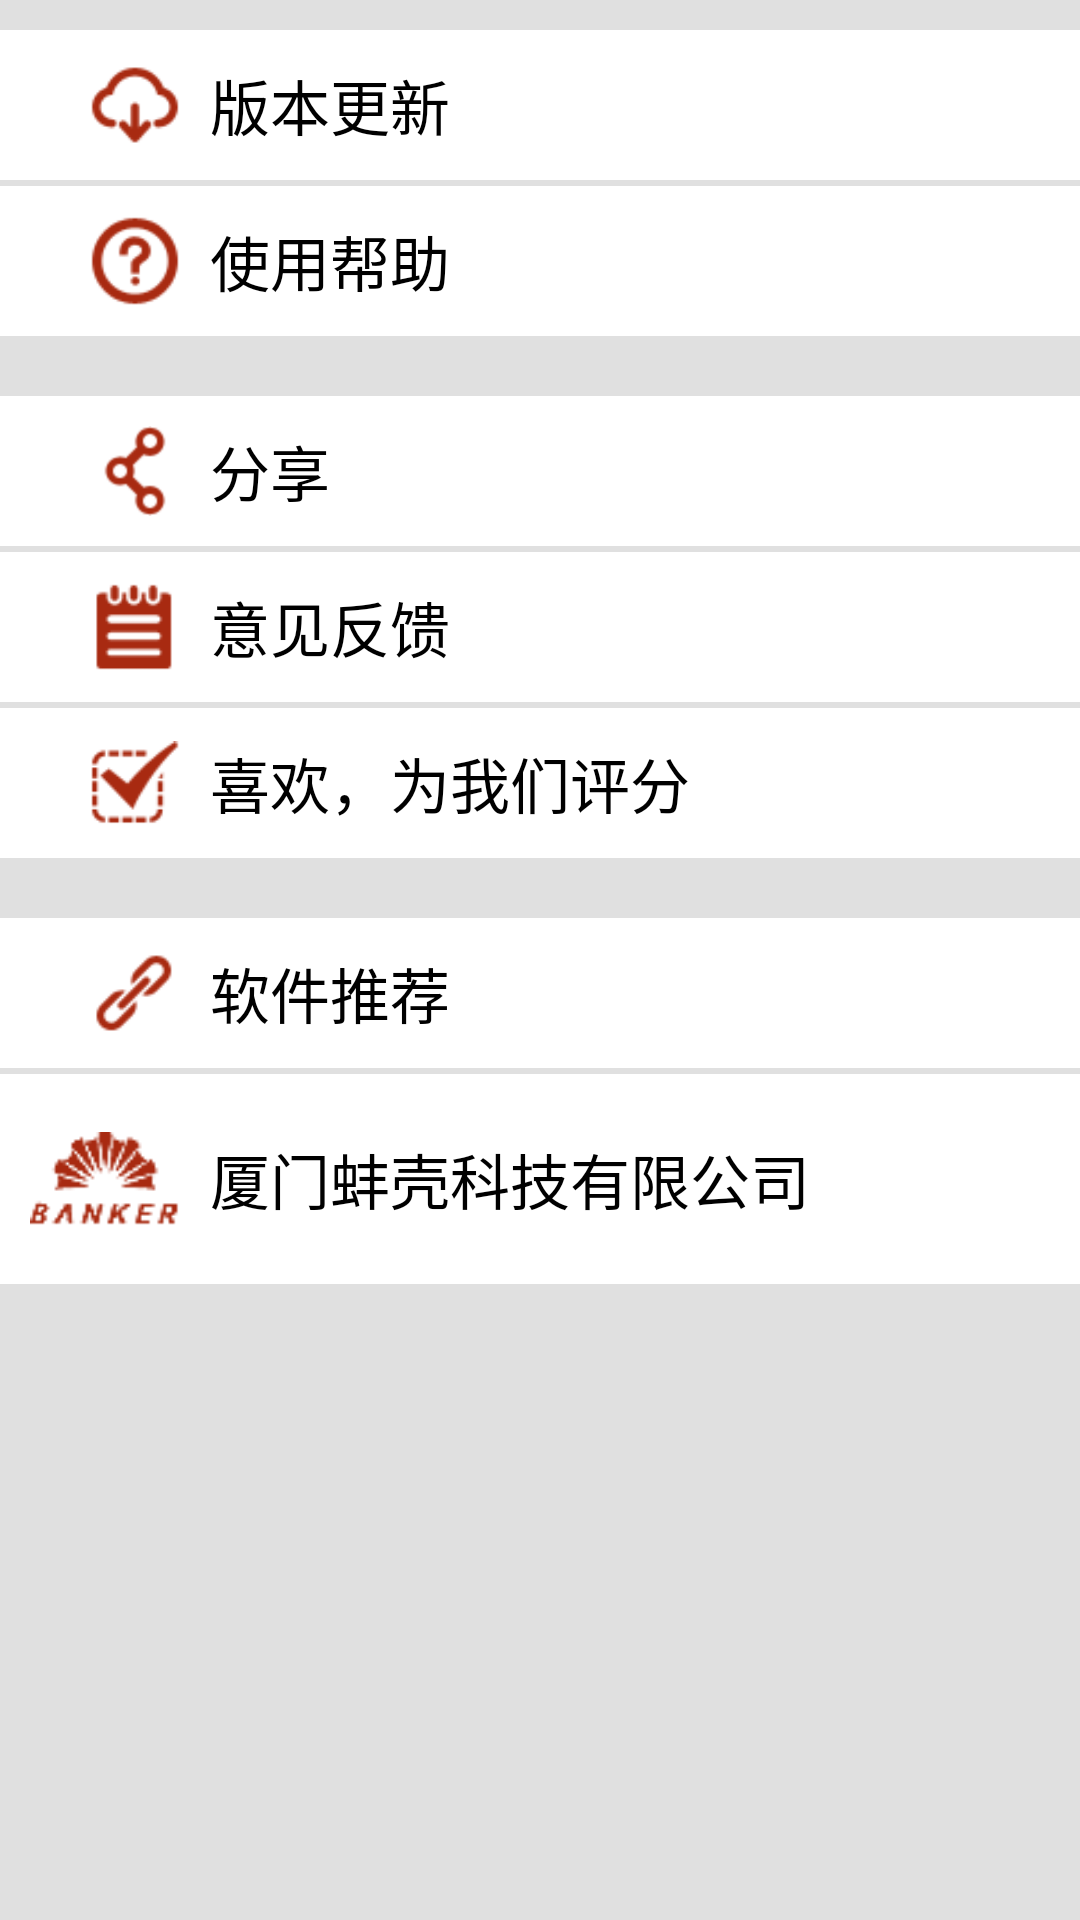

Named icons in this screenshot (1080w x 1920h) and their centers, (x,y):
feedback: (134,627)
grade: (135,782)
help: (135,261)
shard: (135,471)
update: (135,105)
